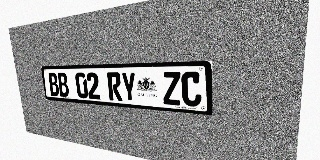0: (75, 72, 88, 99)
2: (86, 72, 100, 99)
B: (57, 73, 70, 97), (47, 73, 60, 96)
C: (181, 71, 202, 107)
R: (107, 72, 122, 101)
Y: (121, 72, 137, 102)
Z: (162, 72, 181, 106)
